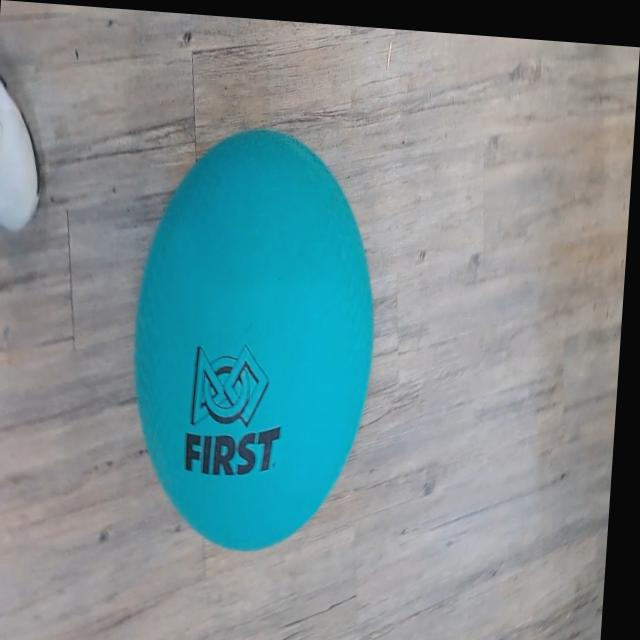ALGAE: (120, 117, 388, 561)
